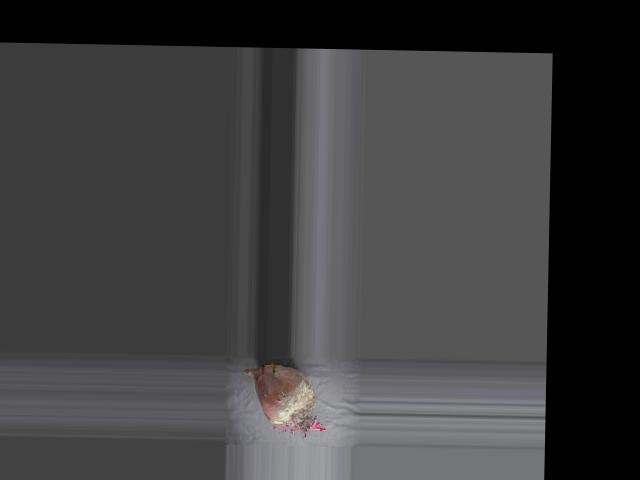beet: (241, 364, 328, 438)
